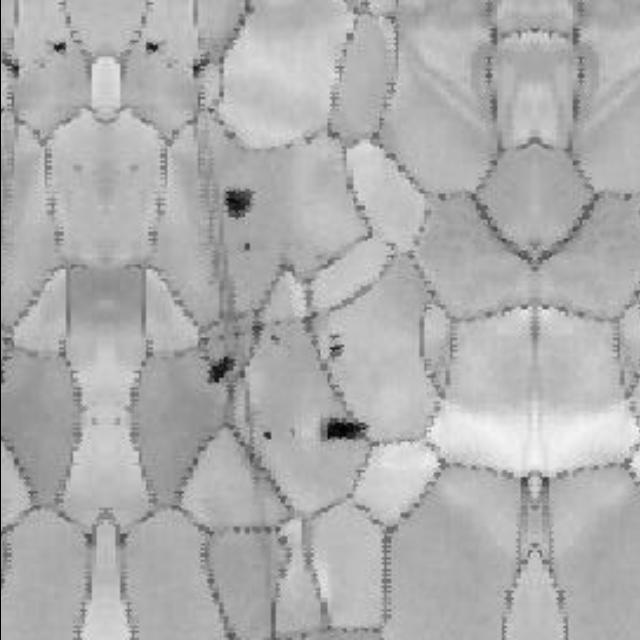good_void: (317, 412, 372, 445), (221, 181, 257, 224), (208, 354, 237, 386), (326, 329, 348, 365), (190, 54, 214, 78), (0, 54, 20, 78), (142, 35, 164, 54), (46, 35, 68, 54), (267, 332, 282, 347), (262, 429, 274, 440), (242, 239, 252, 250)
